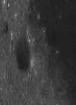crater: (51, 42, 64, 64), (32, 12, 44, 23)
